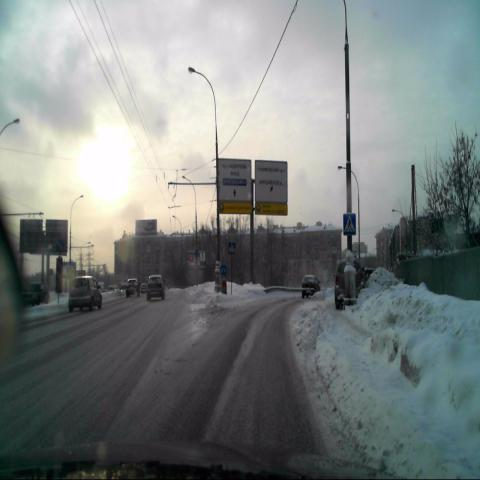5_19_1: (343, 211, 357, 236)
